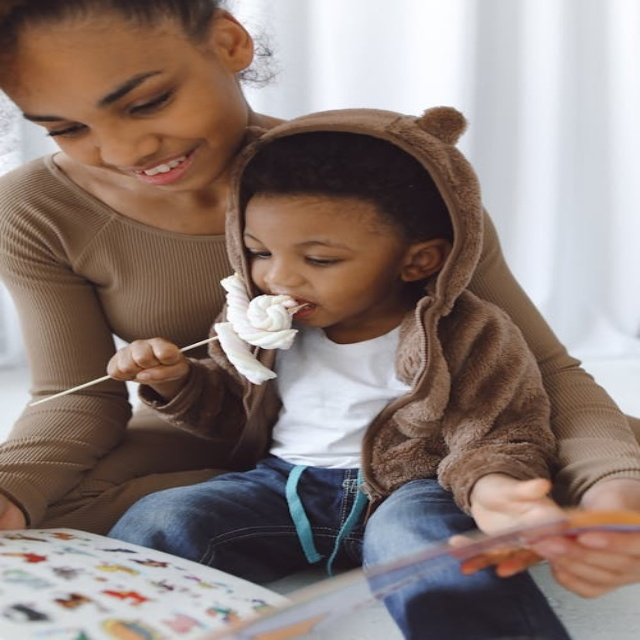Sin_gafas: (33, 59, 196, 142)
Sin_guantes: (477, 488, 640, 603)
Sin_mascara: (125, 149, 199, 184), (290, 302, 317, 318)
